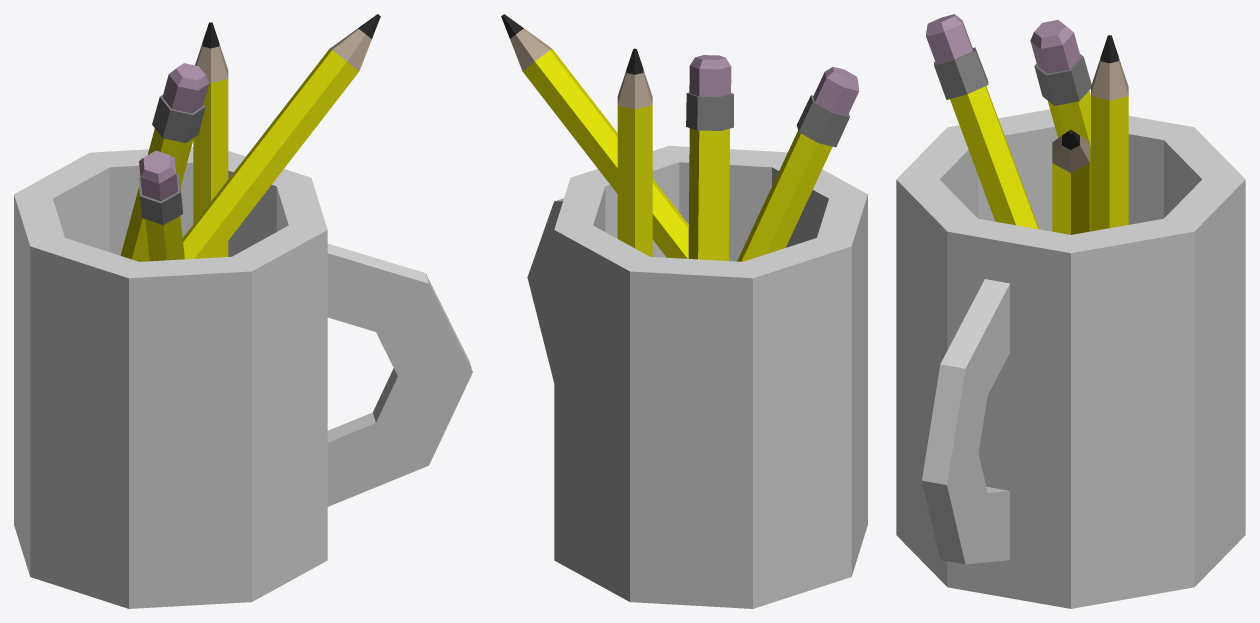
The model's file is Pencils In A Mug.fbx.
3 views of the same model, side by side, from view 1: azimuth 30°, elevation 25°; view 2: azimuth 150°, elevation 25°; view 3: azimuth 270°, elevation 25° (orthographic). The views are drawn at different scales.
Parts seen in each view (by area): view 1: Pencil3; view 2: Pencil3; view 3: Pencil3.
Boxes of the visible parts, box(x1,y1,x2,y2) form: Pencil3: box(14, 14, 472, 608); Pencil3: box(501, 14, 867, 608); Pencil3: box(896, 14, 1245, 608).
Size of the model in its own units: 694 by 855 by 511.
